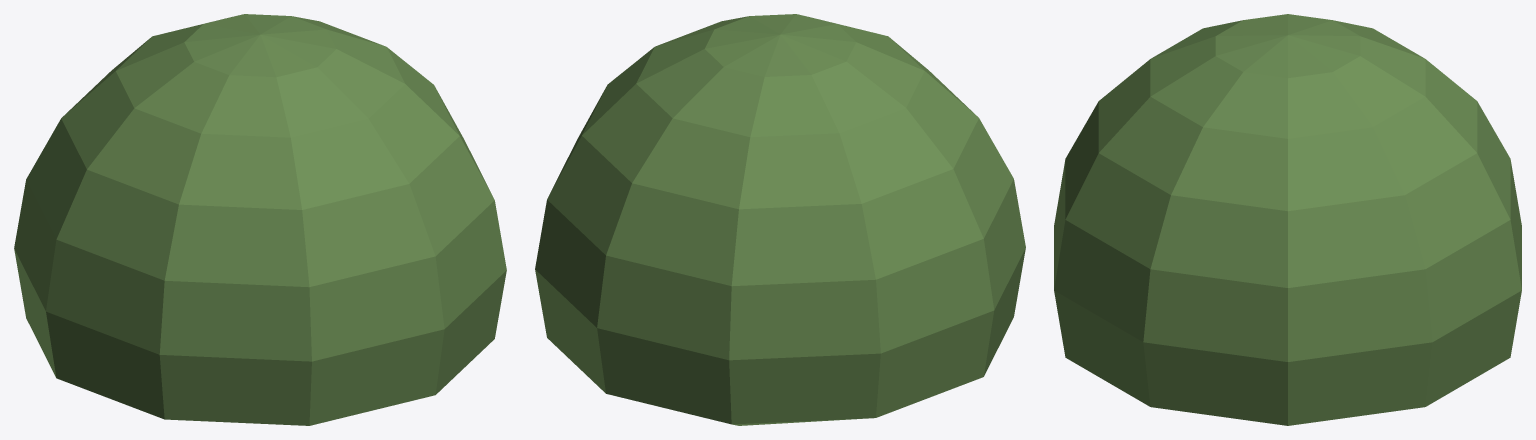
File: bushwiggle.fbx
3 views of the same model, side by side, from view 1: azimuth 30°, elevation 25°; view 2: azimuth 150°, elevation 25°; view 3: azimuth 270°, elevation 25° (orthographic).
Visible parts, largest first — view 1: pSphere1; view 2: pSphere1; view 3: pSphere1.
Boxes of the visible parts, x1,y1,x2,y2 form: pSphere1: (14,14,506,425); pSphere1: (535,14,1025,425); pSphere1: (1054,14,1521,425).
Bounding box in the file's own units: 2.45 × 1.72 × 2.33.
